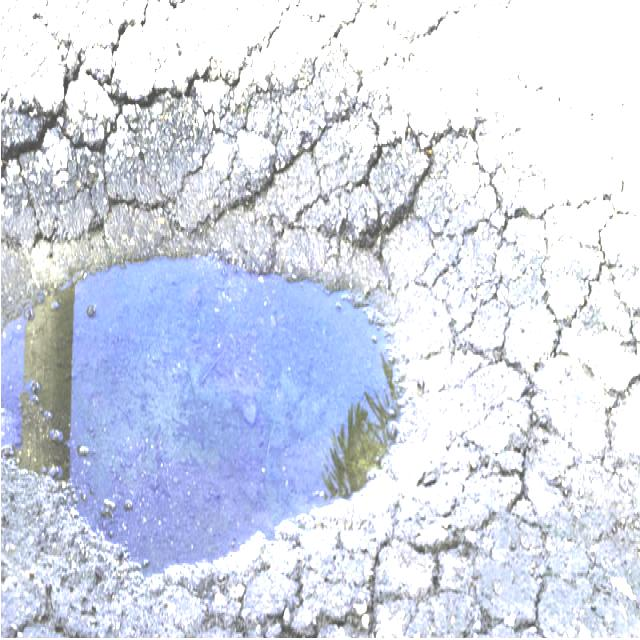Pothole: (4, 5, 478, 640)
